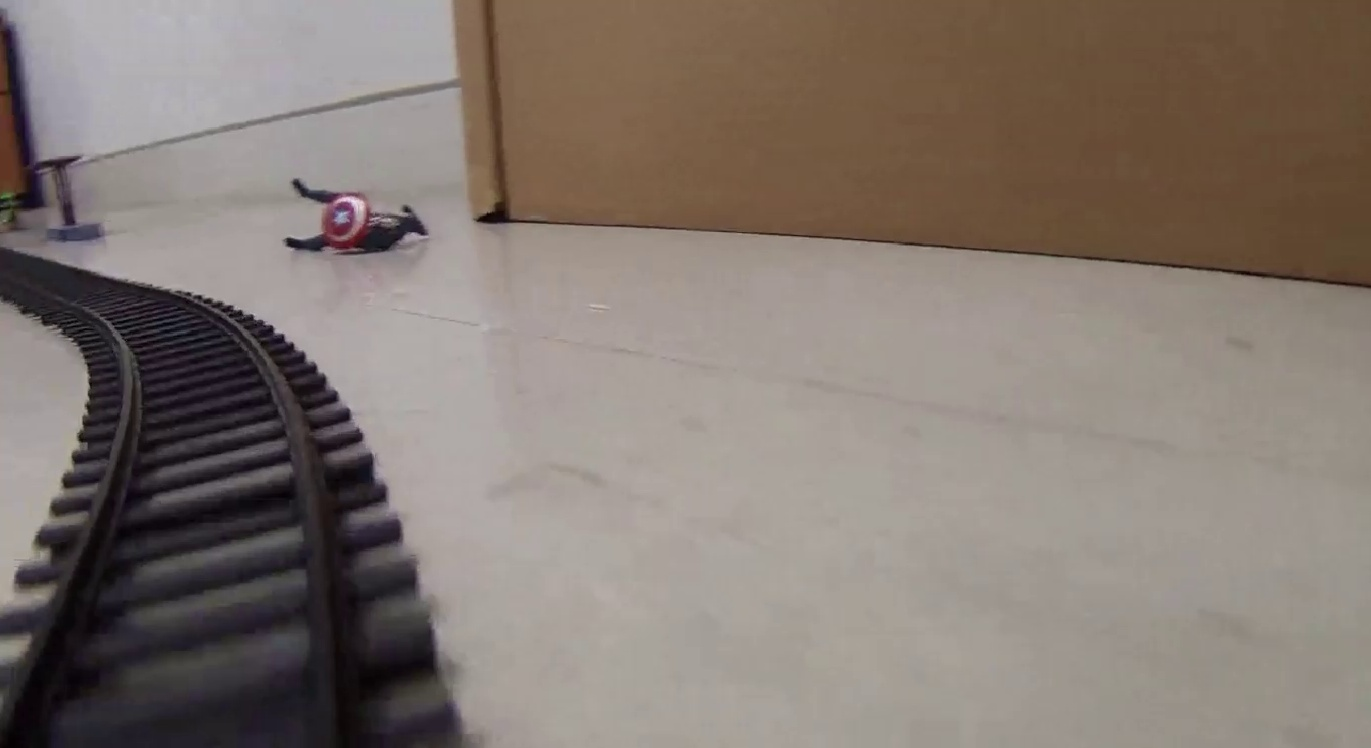people: (285, 180, 429, 256)
